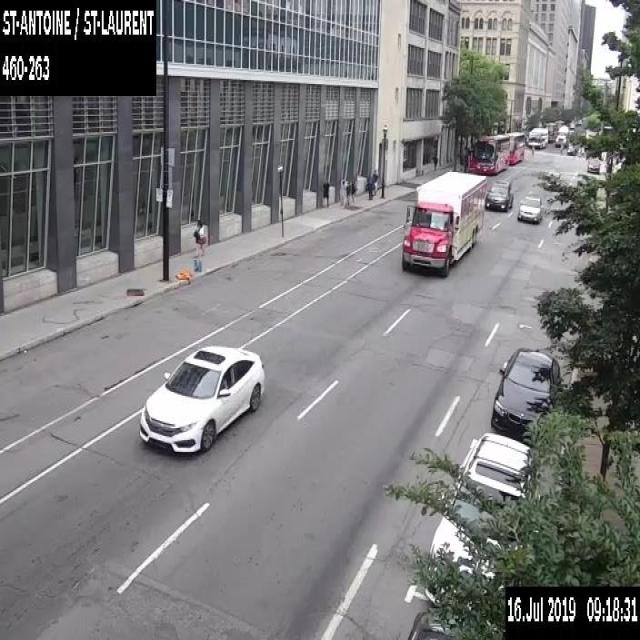bus: (471, 133, 509, 173), (502, 131, 524, 163)
construction: (174, 258, 201, 278)
pedestrian: (193, 218, 205, 258), (365, 169, 374, 199), (344, 180, 350, 208), (339, 179, 345, 204), (372, 169, 377, 194), (351, 177, 356, 202), (432, 152, 437, 170), (559, 141, 562, 153), (581, 146, 584, 157), (531, 144, 533, 154)
vehicle: (424, 430, 539, 608), (137, 344, 266, 456), (401, 170, 486, 276), (490, 346, 560, 441), (407, 608, 471, 639), (485, 178, 513, 210), (516, 194, 541, 224), (528, 126, 548, 148), (554, 125, 568, 146), (544, 122, 558, 142), (586, 157, 600, 173), (566, 144, 575, 154)
